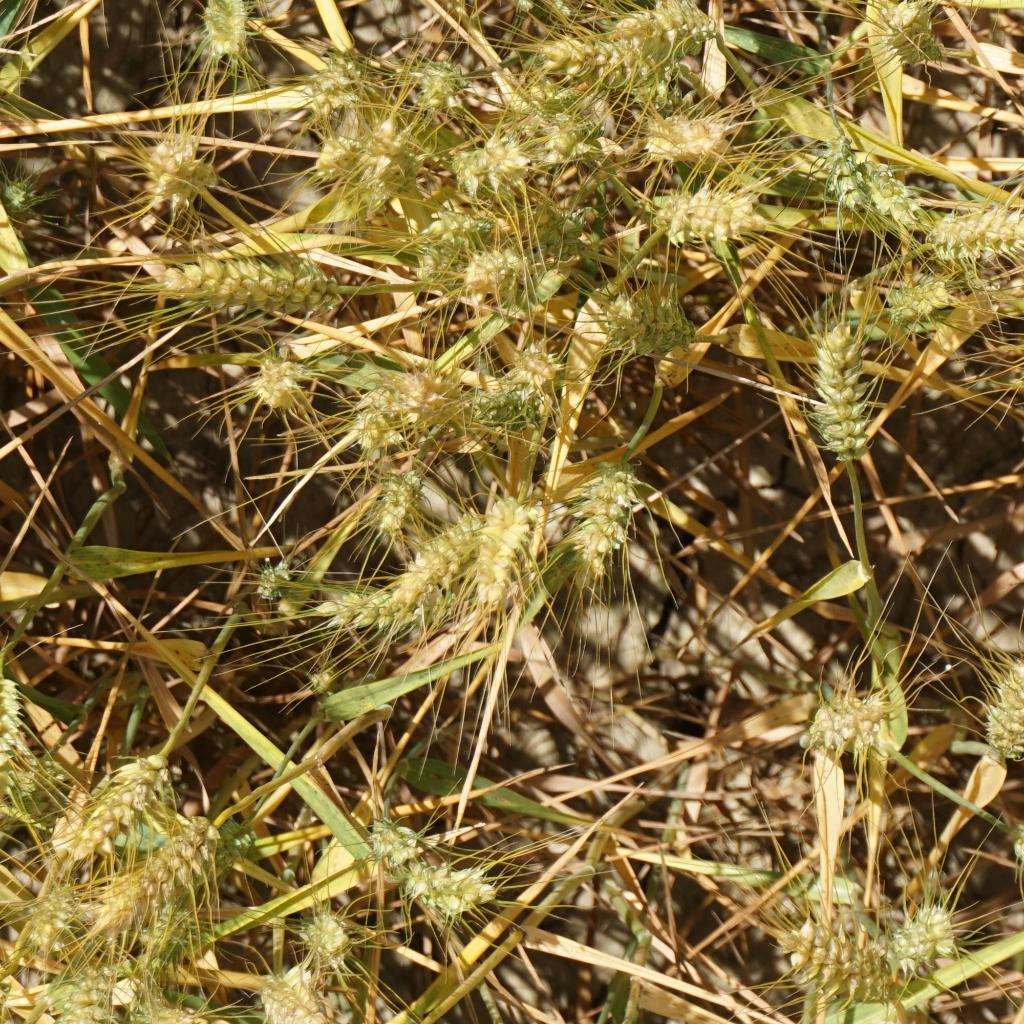0-0: (169, 246, 338, 316), (553, 444, 647, 567), (0, 719, 86, 847), (785, 905, 906, 995), (802, 323, 878, 465), (640, 179, 783, 253), (107, 828, 221, 918), (822, 137, 925, 234), (57, 748, 156, 837), (468, 494, 539, 609), (390, 524, 474, 619), (414, 248, 543, 308), (451, 363, 550, 441), (929, 192, 1024, 273), (601, 283, 703, 358), (310, 560, 411, 633), (615, 0, 712, 75), (4, 875, 94, 953), (241, 338, 329, 412), (388, 346, 462, 433), (350, 120, 425, 204), (142, 131, 224, 204), (636, 108, 740, 165), (453, 129, 545, 192), (397, 48, 473, 121), (526, 16, 623, 73), (427, 197, 529, 251), (530, 110, 616, 173), (367, 462, 432, 543), (979, 654, 1024, 765), (516, 204, 606, 259), (186, 0, 257, 69), (411, 868, 497, 923), (817, 683, 886, 750), (894, 903, 975, 956), (352, 370, 403, 454), (304, 45, 369, 107), (881, 0, 939, 69), (302, 113, 364, 177), (516, 337, 588, 390), (256, 972, 322, 1024), (297, 910, 363, 962), (518, 70, 588, 118), (137, 908, 198, 960), (370, 829, 442, 873), (896, 280, 954, 332), (250, 553, 297, 612), (505, 0, 592, 30), (1006, 817, 1024, 915), (0, 155, 27, 210), (0, 974, 20, 1024)
